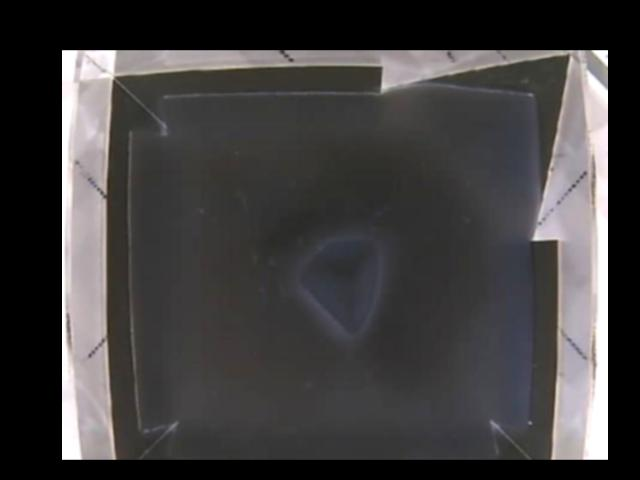Mooli: (303, 232, 380, 330)
